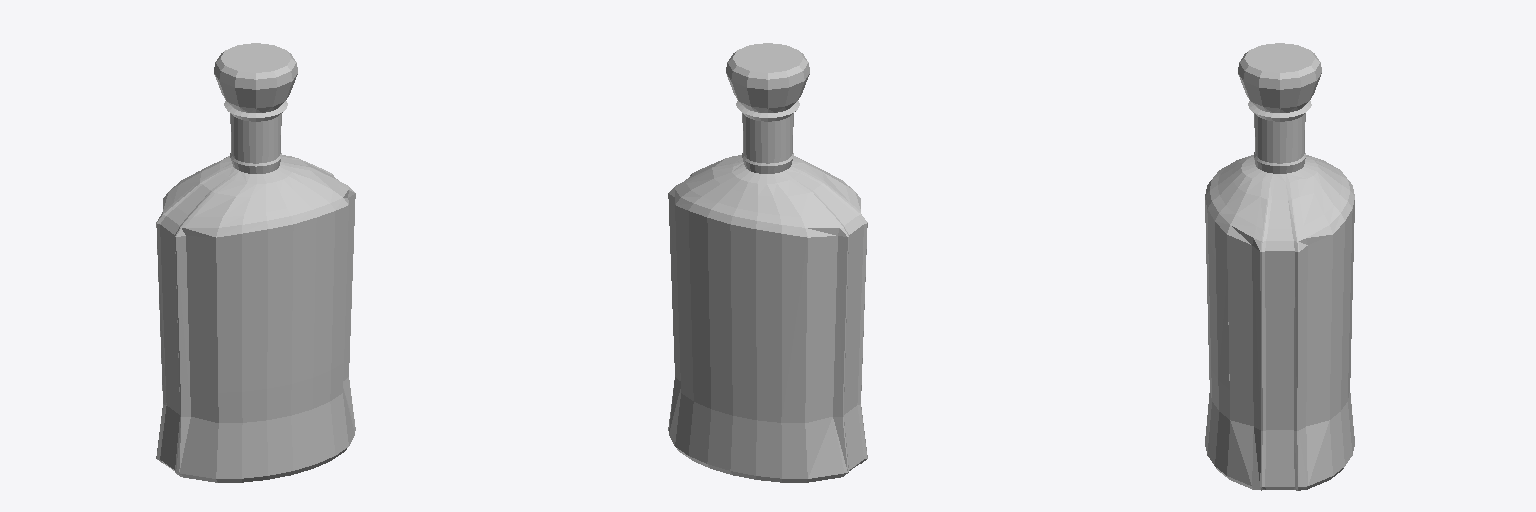
Rendered from wine_bottle_3.obj.
3 renders of one model, left to right at view 1: azimuth 30°, elevation 25°; view 2: azimuth 150°, elevation 25°; view 3: azimuth 270°, elevation 25°, orthographic.
Parts seen in each view (by area): view 1: bayomat0; view 2: bayomat0; view 3: bayomat0.
Boxes of the visible parts, x1=… form: bayomat0: x1=156, y1=43, x2=355, y2=482; bayomat0: x1=668, y1=43, x2=867, y2=482; bayomat0: x1=1205, y1=43, x2=1354, y2=490.
Size of the model in its own units: 0.1419 by 0.2975 by 0.1024.